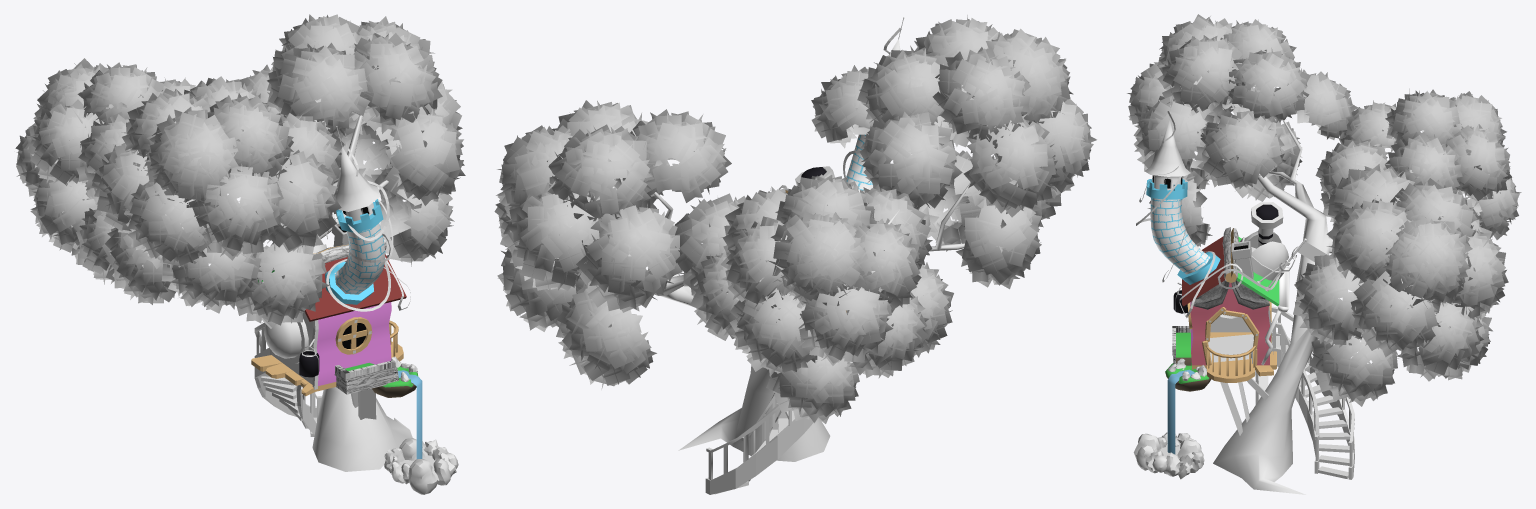
File: House.fbx
3 views of the same model, side by side, from view 1: azimuth 30°, elevation 25°; view 2: azimuth 150°, elevation 25°; view 3: azimuth 270°, elevation 25° (orthographic). The views are drawn at different scales.
Parts seen in each view (by area): view 1: LOD0.002, LOD0, LOD0.001, Plane, Plane.017, Plane.008, Plane.004, Cube.008, Plane.021, Plane.001, Cube.011, rock.007 (+4 smaller); view 2: LOD0, LOD0.002, LOD0.001, Plane.017, Cube.012, Cube.014, Plane.008; view 3: LOD0, LOD0.002, LOD0.001, Plane.017, Plane.008, Plane, Cube.011, Icosphere, Plane.021, Plane.003, Plane.004, Plane.019 (+15 smaller).
Part boxes in pixels (left/top/right/bottom): LOD0.002: left=93, top=76, right=341, bottom=328; LOD0: left=239, top=14, right=465, bottom=266; LOD0.001: left=15, top=58, right=229, bottom=284; Plane: left=251, top=275, right=403, bottom=419; Plane.017: left=73, top=110, right=412, bottom=471; Plane.008: left=325, top=126, right=385, bottom=304; Plane.004: left=304, top=254, right=406, bottom=321; Cube.008: left=334, top=360, right=398, bottom=394; Plane.021: left=326, top=137, right=410, bottom=311; Plane.001: left=335, top=317, right=372, bottom=354; Cube.011: left=261, top=373, right=316, bottom=436; rock.007: left=408, top=459, right=439, bottom=494; LOD0: left=494, top=100, right=766, bottom=389; LOD0.002: left=811, top=15, right=1096, bottom=289; LOD0.001: left=690, top=174, right=953, bottom=423; Plane.017: left=612, top=153, right=970, bottom=461; Cube.012: left=705, top=381, right=830, bottom=494; Cube.014: left=706, top=361, right=818, bottom=479; Plane.008: left=845, top=17, right=904, bottom=192; LOD0: left=1293, top=164, right=1508, bottom=406; LOD0.002: left=1127, top=14, right=1358, bottom=246; LOD0.001: left=1315, top=89, right=1521, bottom=239; Plane.017: left=1213, top=88, right=1412, bottom=494; Plane.008: left=1144, top=98, right=1220, bottom=284; Plane: left=1190, top=283, right=1276, bottom=435; Cube.011: left=1271, top=336, right=1350, bottom=478; Icosphere: left=1240, top=230, right=1288, bottom=280; Plane.021: left=1136, top=111, right=1302, bottom=317; Plane.003: left=1251, top=202, right=1283, bottom=247; Plane.004: left=1182, top=236, right=1224, bottom=306; Plane.019: left=1208, top=334, right=1253, bottom=362.
Size of what is drawn, in the model's own units: 2305 by 2119 by 2035.
